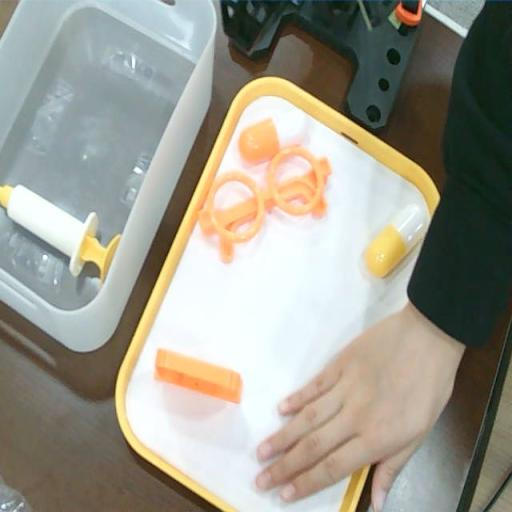hospital: (252, 334, 454, 512)
